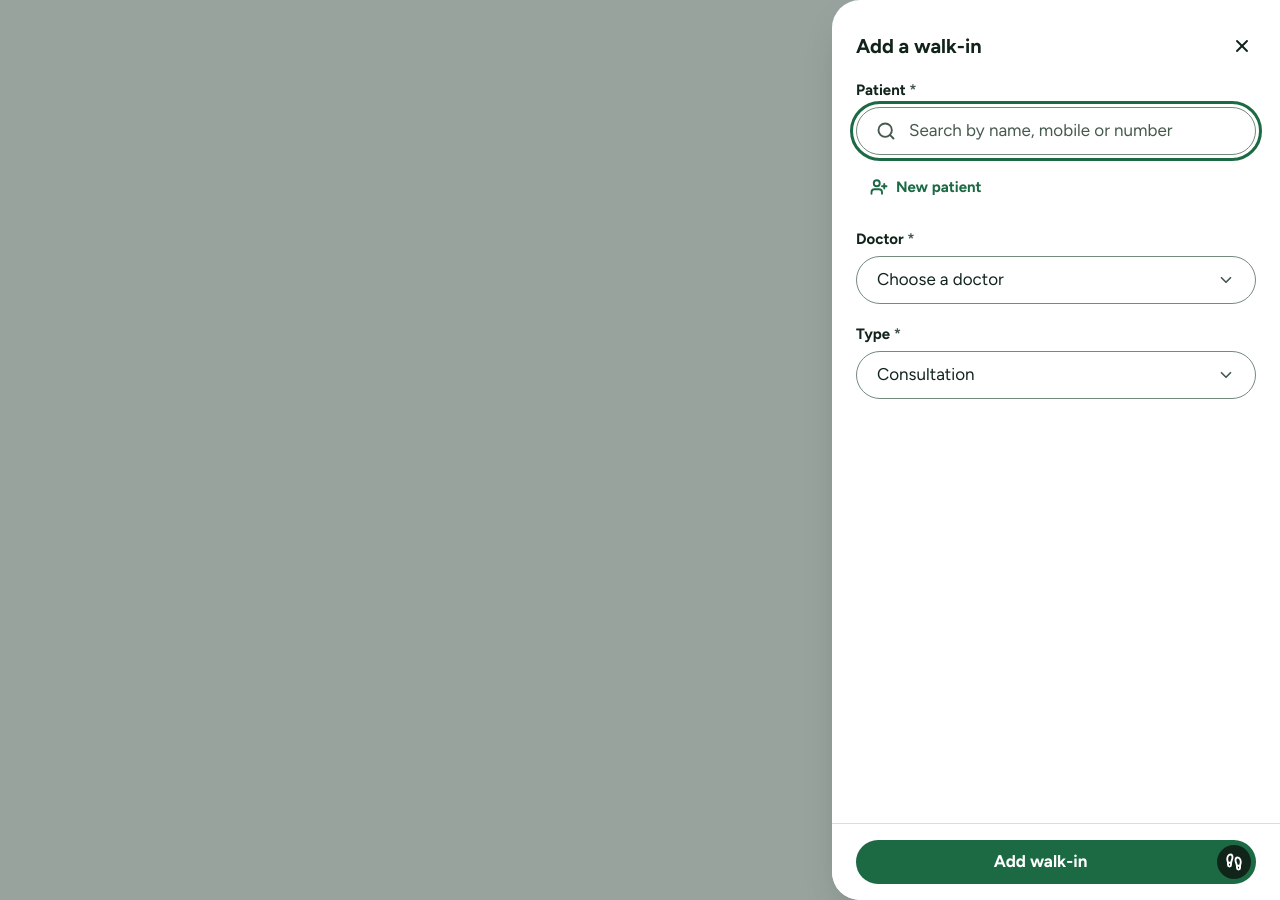
Test: WalkInSheet (plan §11.3; D171, D173, D175) › asks for the patient and the doctor on every doctor's queue with several doctors
The width and height of the screenshot is (1280, 900).
Check: the dropdown labelled "Choose a doctor" is shown, box [856,256,1256,304]
Click the button "Add walk-in" at (1056, 862), box [856,840,1256,884]
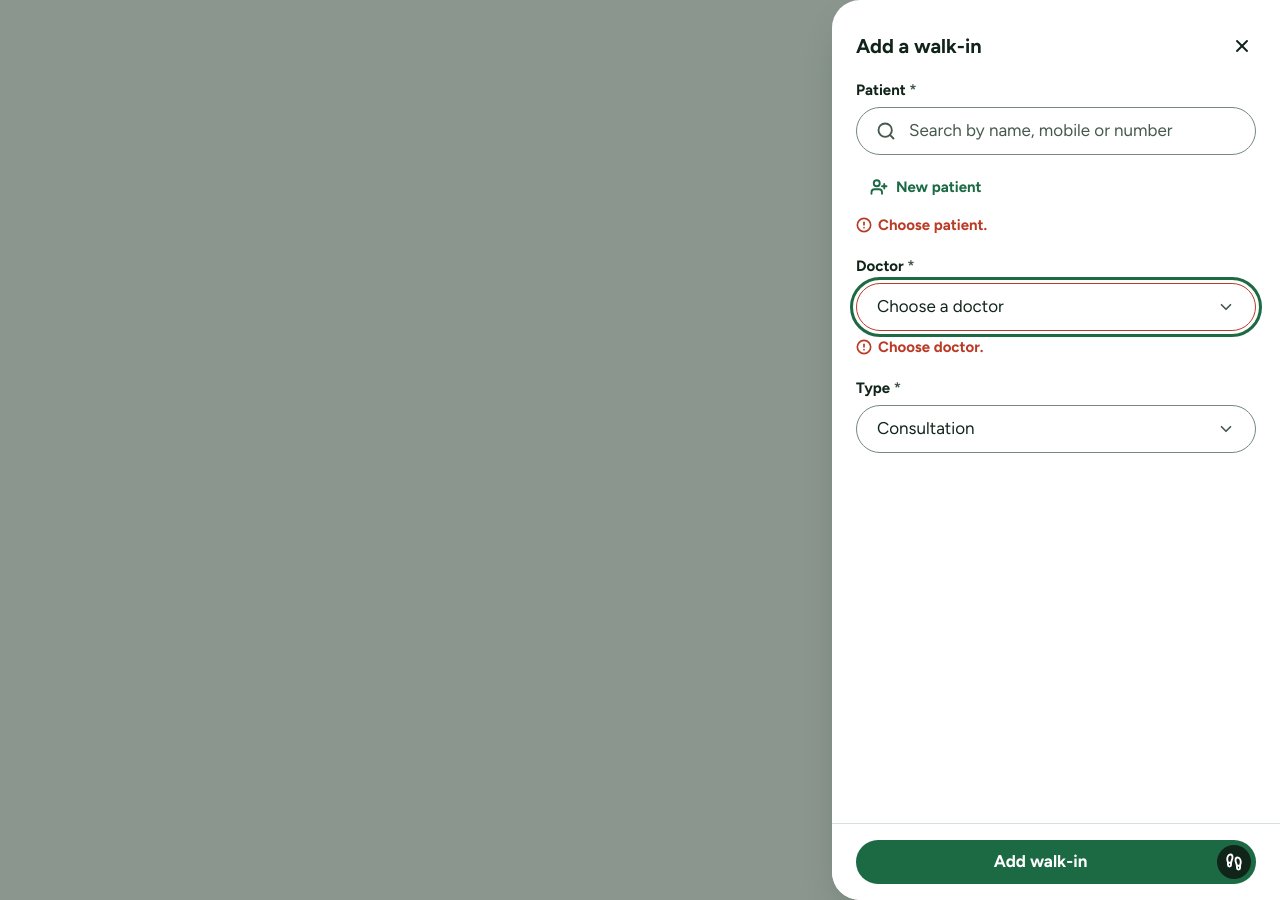
Check: the text "Choose patient." is shown, box [856,216,987,234]
Check: the text "Choose doctor." is shown, box [856,338,984,356]
